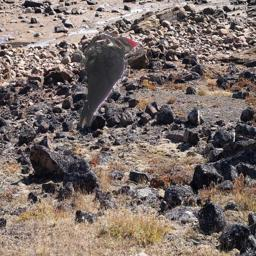Woodpecker: (73, 32, 140, 127)
